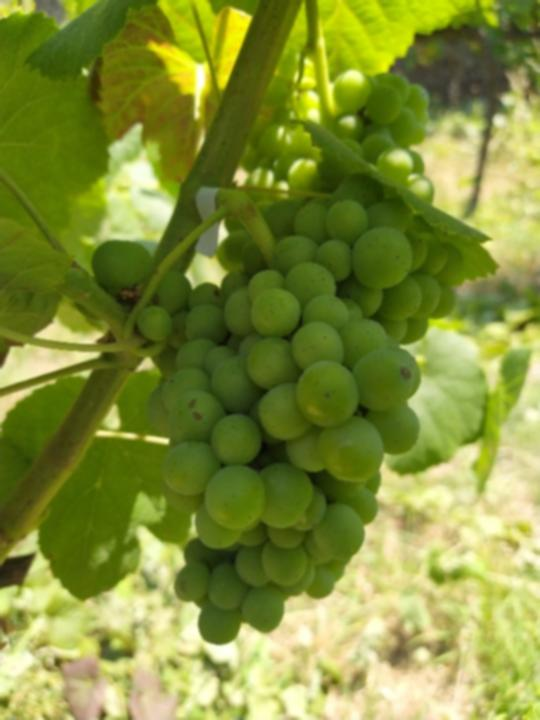grape: (89, 172, 463, 649)
